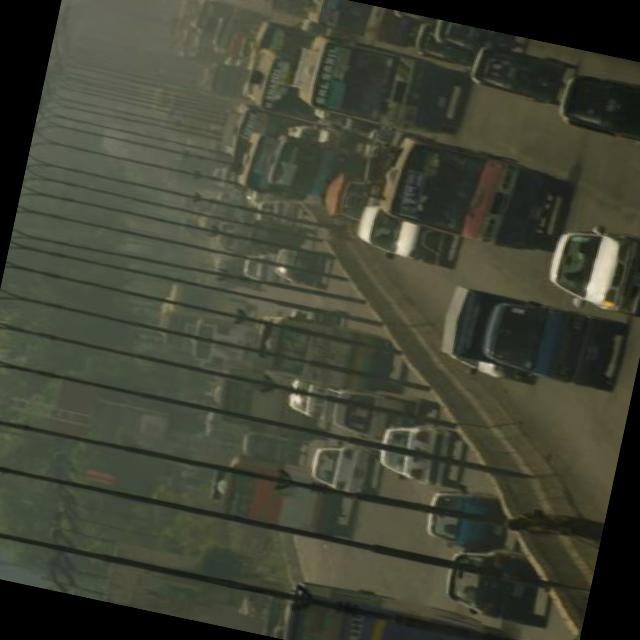bus: (368, 130, 574, 260), (289, 28, 478, 144), (260, 568, 515, 640), (200, 449, 368, 548), (258, 309, 416, 402), (252, 125, 370, 214), (204, 363, 326, 442), (153, 276, 254, 362), (299, 0, 418, 48), (178, 311, 266, 375), (318, 168, 388, 234)
car: (438, 538, 564, 632), (538, 212, 640, 319), (416, 480, 528, 566), (366, 412, 482, 494), (302, 435, 388, 506), (267, 239, 338, 291), (274, 374, 336, 425)
motorcycle: (543, 61, 640, 155), (462, 41, 578, 110), (426, 18, 529, 62), (235, 426, 314, 471), (411, 21, 475, 66)
truck: (430, 278, 637, 399), (344, 200, 469, 274), (324, 382, 442, 454)
